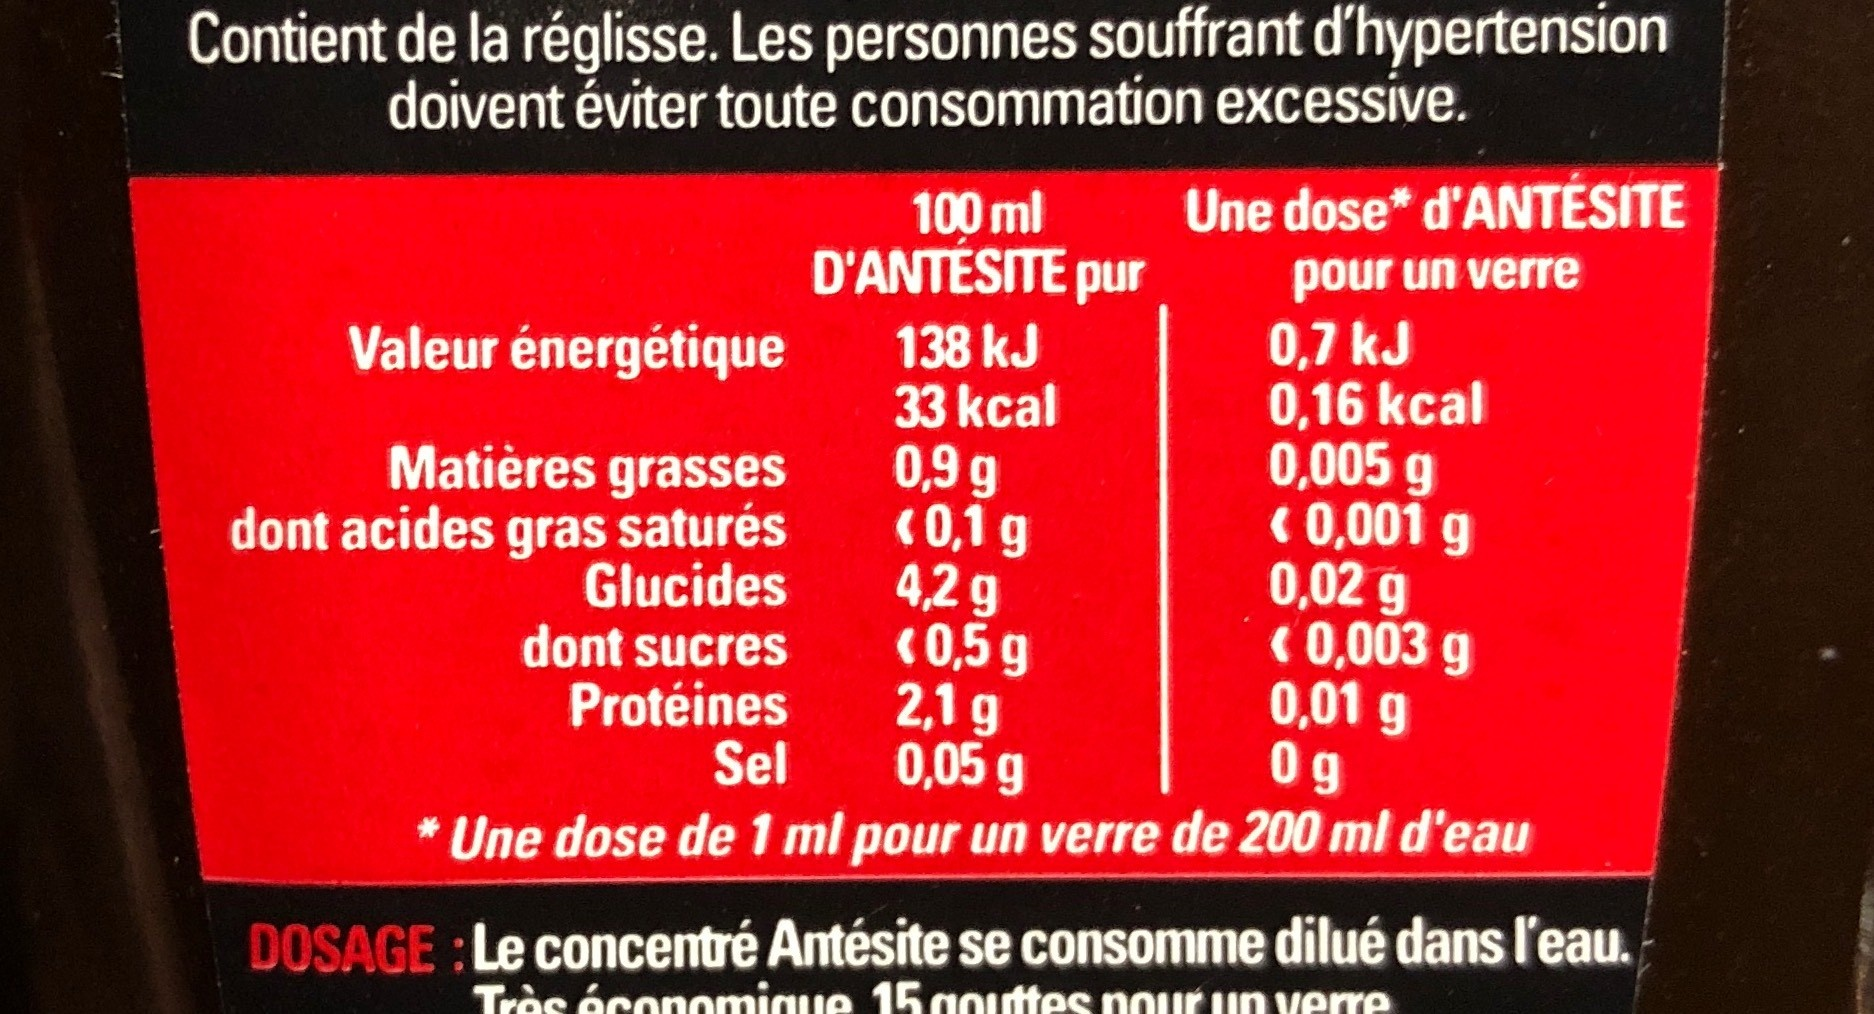column: (1184, 184, 1685, 803), (228, 322, 792, 787), (815, 189, 1142, 797)
table: (216, 157, 1695, 812)
